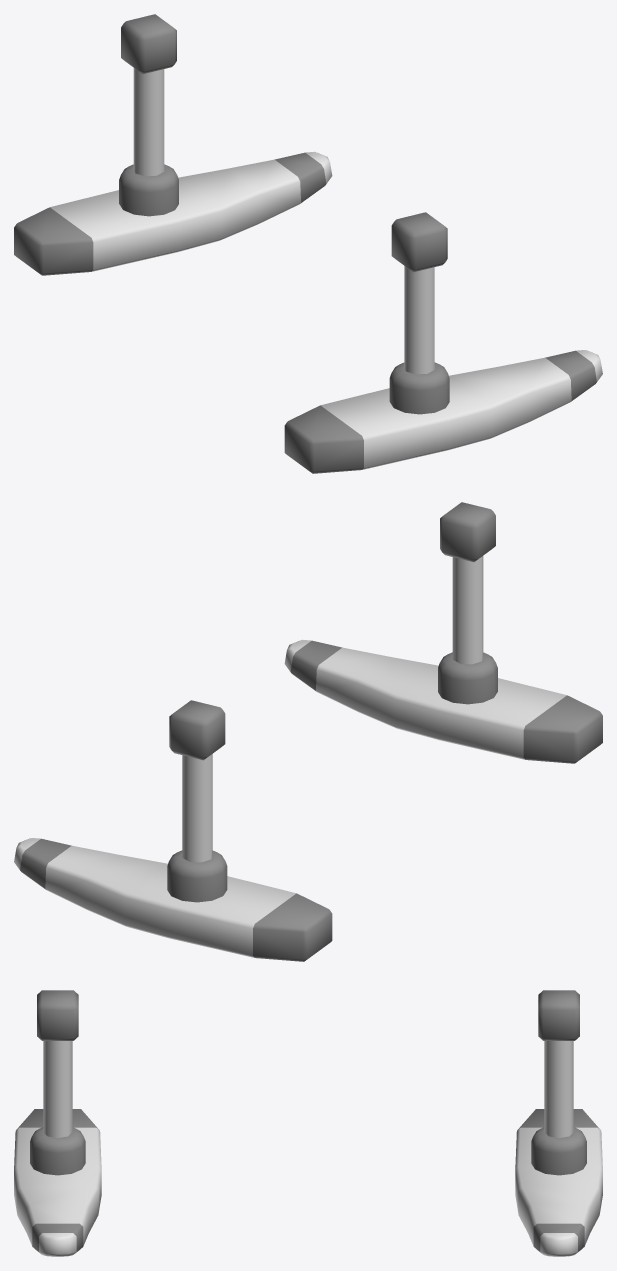
File: ski_metal.fbx
3 renders of one model, top to bottom at view 1: azimuth 30°, elevation 25°; view 2: azimuth 150°, elevation 25°; view 3: azimuth 270°, elevation 25°, orthographic. The views are drawn at different scales.
Visible parts, largest first — view 1: ski_metal; view 2: ski_metal; view 3: ski_metal.
Part boxes in pixels (x1,y1,x2,y2): ski_metal: [14, 14, 602, 473]; ski_metal: [14, 502, 602, 961]; ski_metal: [14, 990, 602, 1256].
Bounding box in the file's own units: 130 × 87.78 × 236.
